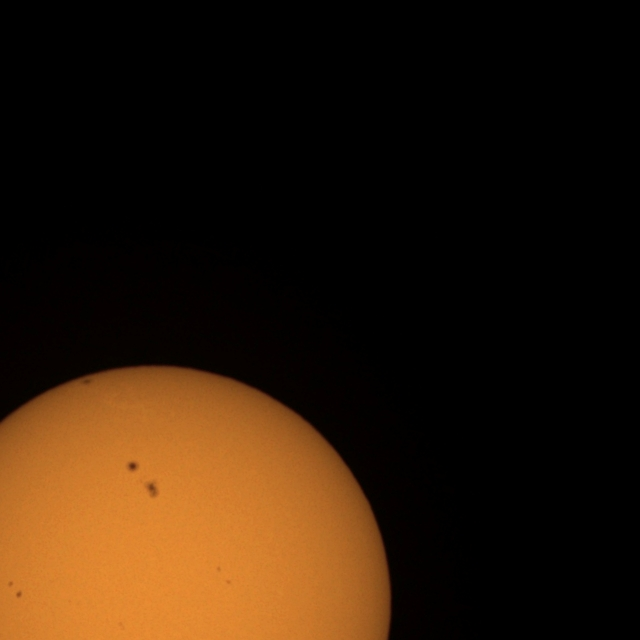sunspot: (144, 480, 160, 500), (7, 580, 23, 600), (216, 566, 232, 584), (125, 460, 140, 474), (117, 620, 126, 631), (15, 590, 23, 599), (225, 578, 232, 586), (215, 565, 222, 573), (7, 580, 14, 588)
